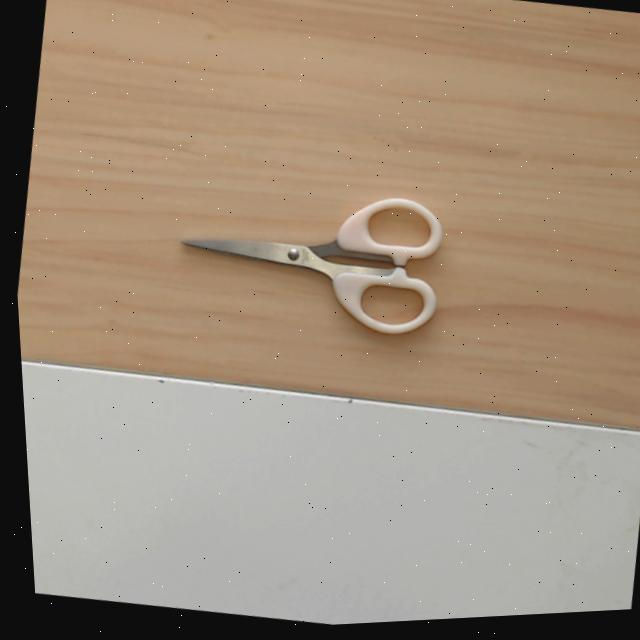Gunting: (180, 178, 445, 337)
